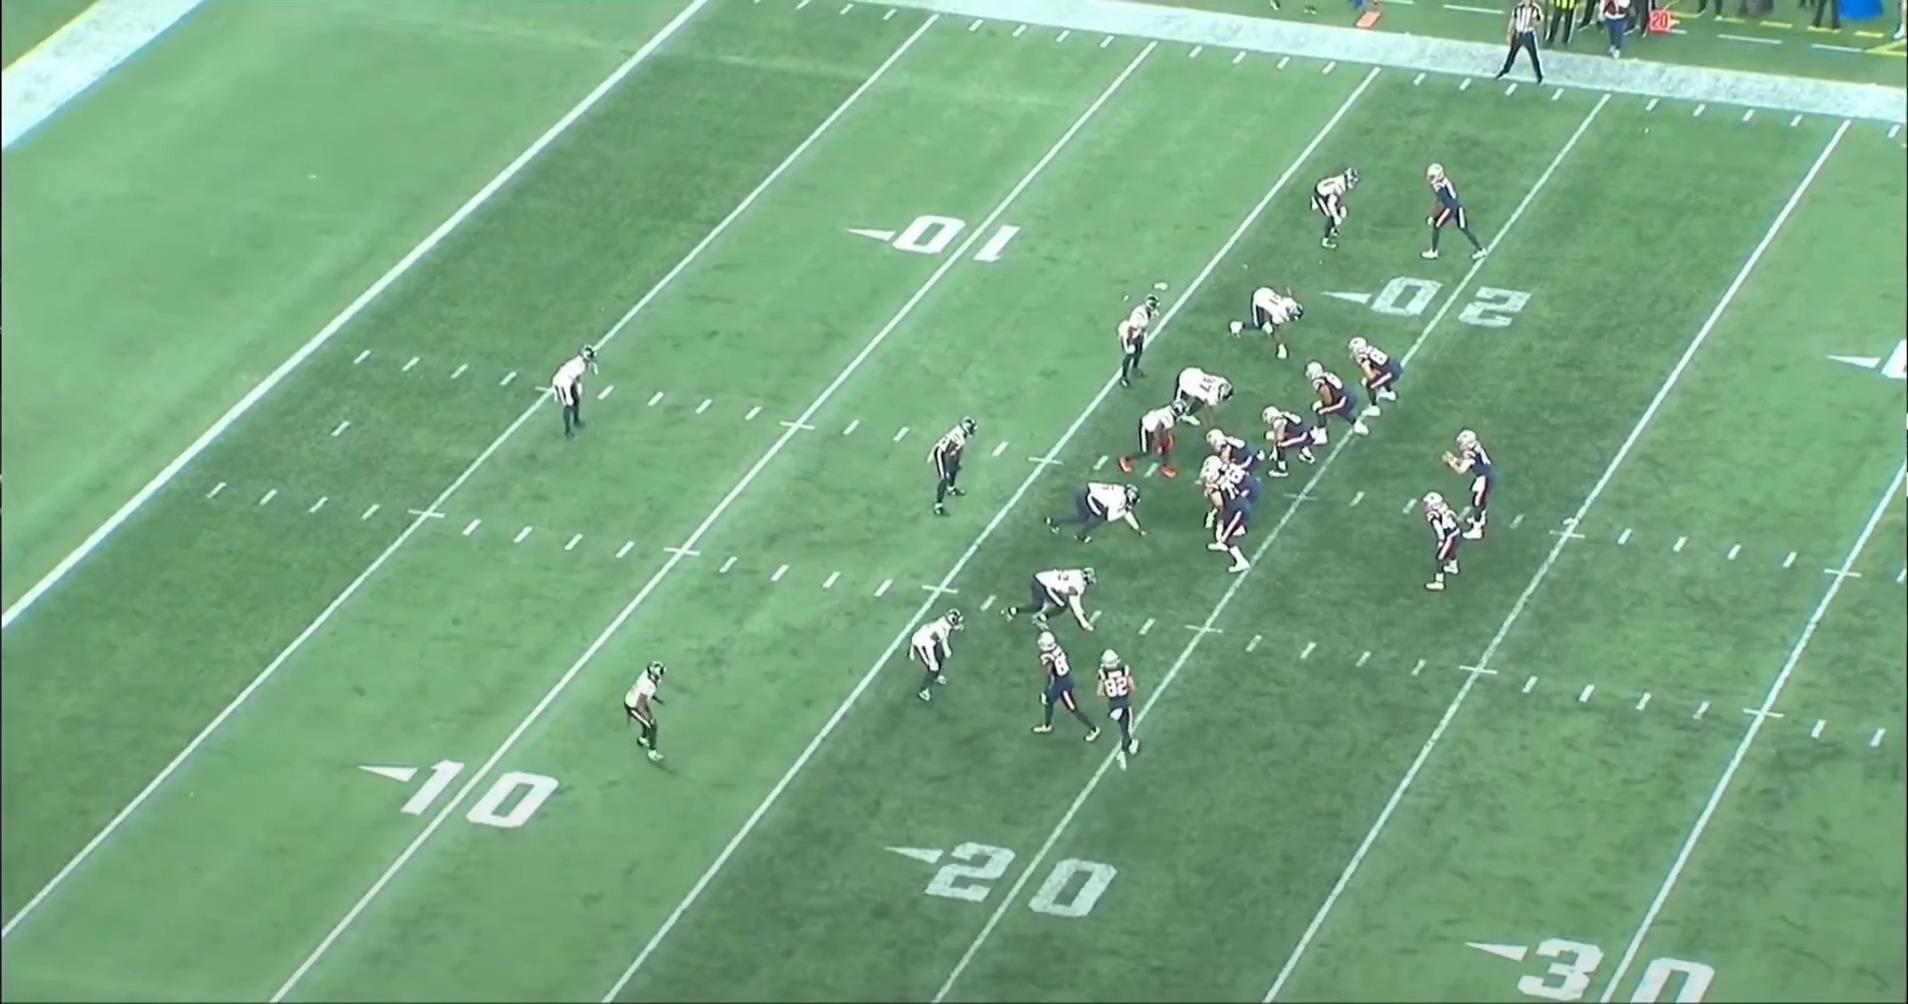defense: (1052, 480, 1144, 548), (1228, 282, 1307, 360), (906, 610, 967, 711), (623, 658, 678, 770), (1016, 564, 1100, 632), (927, 414, 981, 517), (1118, 404, 1187, 483), (550, 344, 601, 444), (1118, 288, 1166, 392), (1313, 166, 1368, 256), (1162, 367, 1234, 431)
oline: (1193, 472, 1253, 579), (1309, 359, 1377, 443), (1260, 404, 1326, 478), (1203, 458, 1266, 510), (1207, 428, 1267, 480)
qb: (1445, 427, 1500, 544)
ref: (1491, 0, 1551, 87)
skill: (1031, 631, 1102, 745), (1420, 161, 1493, 264), (1087, 646, 1141, 769), (1349, 332, 1407, 420), (1421, 491, 1468, 597)
